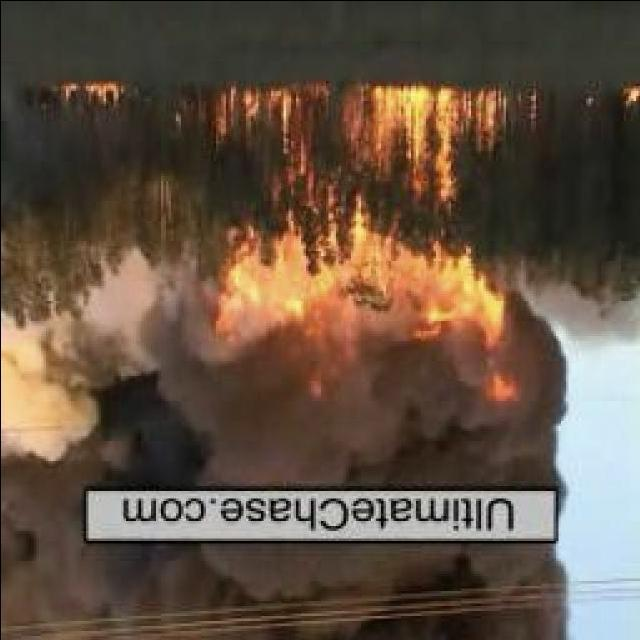Fire: (208, 87, 520, 408), (52, 80, 122, 114), (618, 70, 637, 108)
